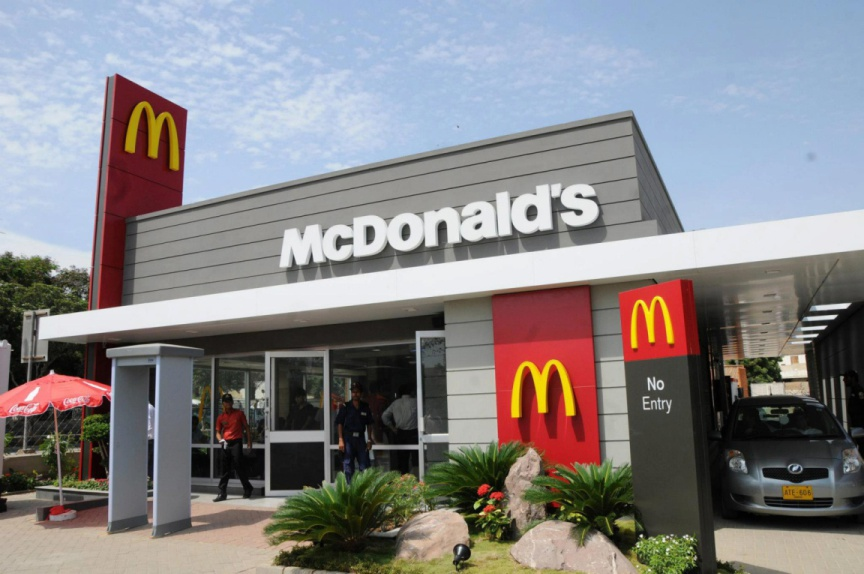mcdonalds: (504, 352, 585, 428), (120, 96, 188, 175), (626, 295, 685, 353)
